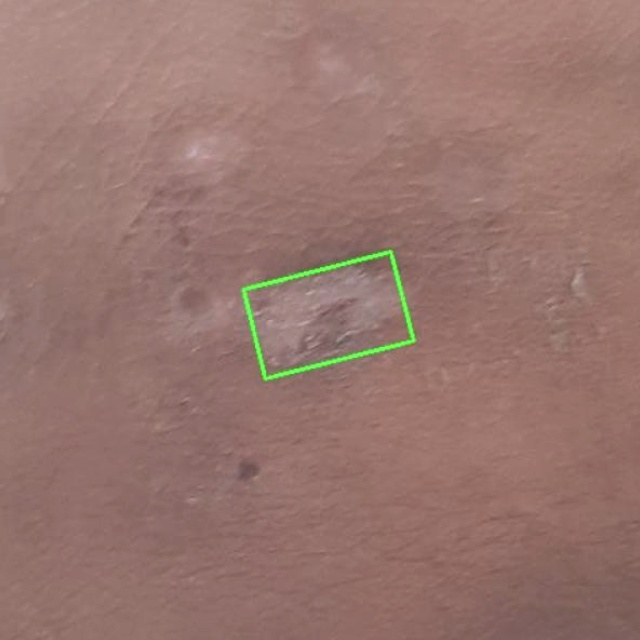Eczema: (243, 252, 413, 378)
